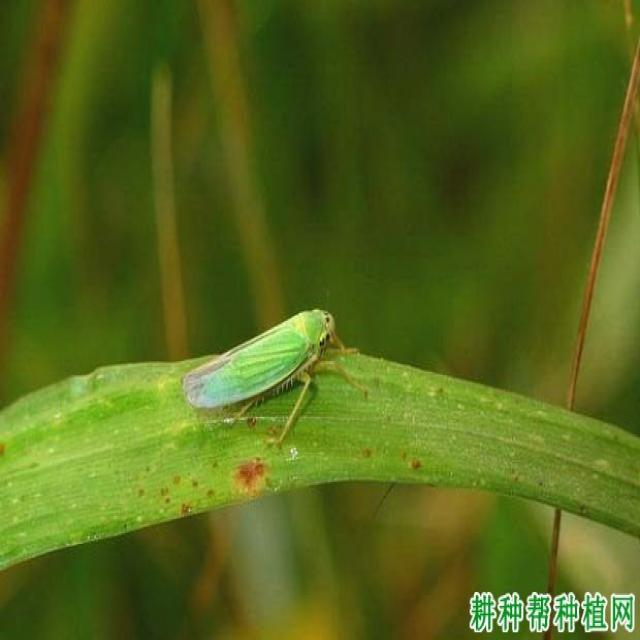Yechan: (176, 303, 344, 434)
